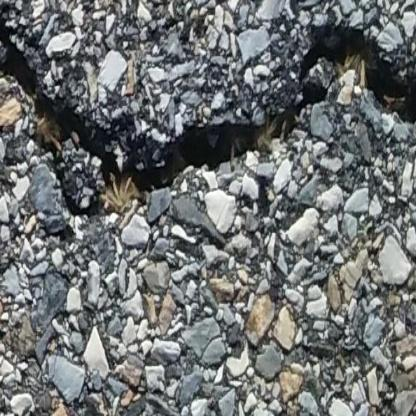Cracks: (0, 25, 416, 199)
